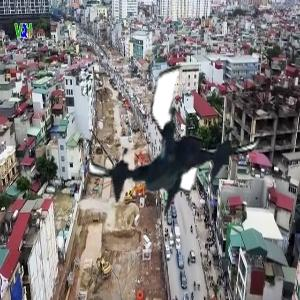drone: (87, 46, 271, 230)
